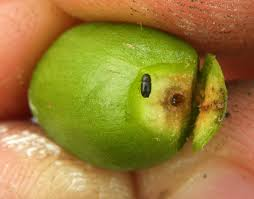broca de cafe: (49, 31, 231, 158)
